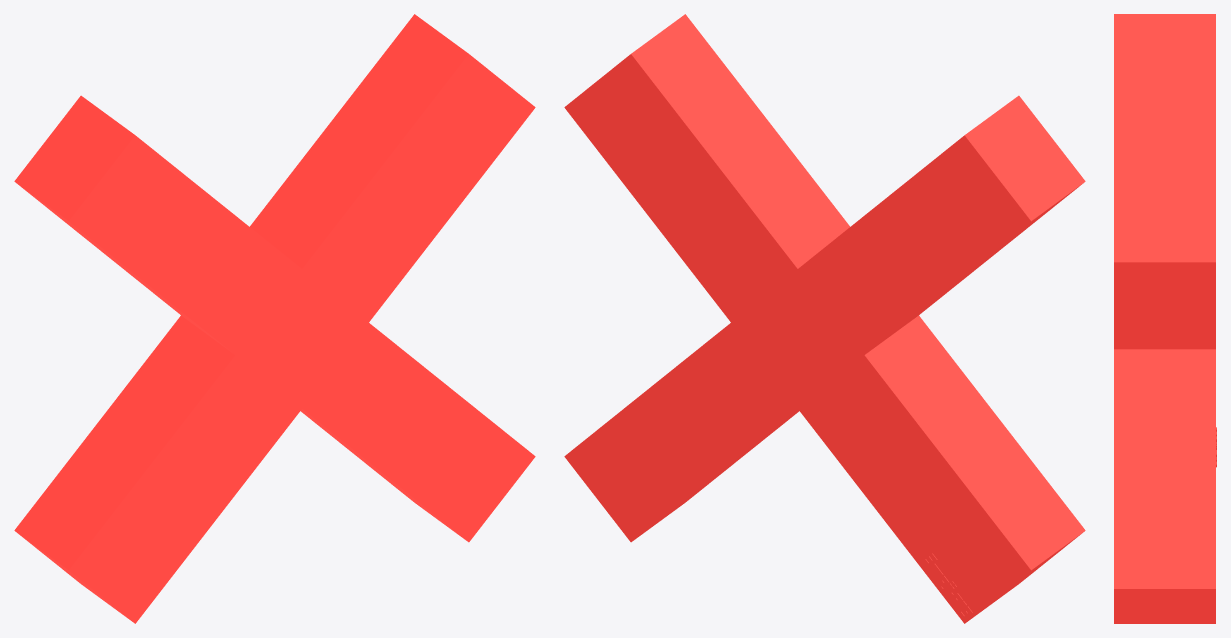
The model's file is cross_mark.gltf.
3 views of the same model, side by side, from view 1: azimuth 30°, elevation 25°; view 2: azimuth 150°, elevation 25°; view 3: azimuth 270°, elevation 25° (orthographic). The views are drawn at different scales.
Parts seen in each view (by area): view 1: Cube.6461; view 2: Cube.6461; view 3: Cube.6461.
Part boxes in pixels (left/top/right/bottom): Cube.6461: left=14, top=14, right=535, bottom=623; Cube.6461: left=564, top=14, right=1085, bottom=623; Cube.6461: left=1114, top=14, right=1216, bottom=623.
Bounding box in the file's own units: 1.98 × 1.98 × 0.4029.
1 material, 1 textured.
